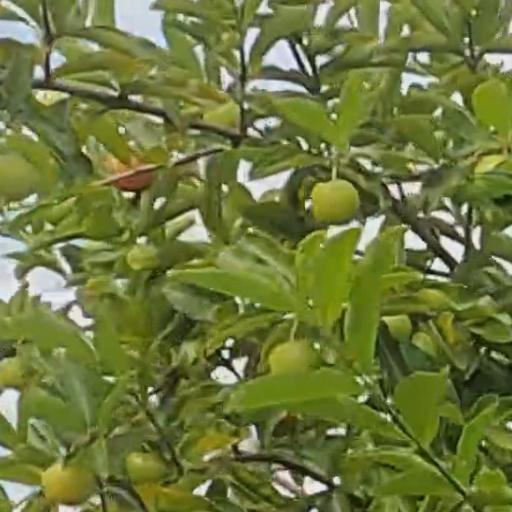acerola_verde: (311, 181, 360, 223), (46, 465, 92, 504), (269, 340, 322, 372)
acerola_vermelha: (111, 155, 155, 191)
